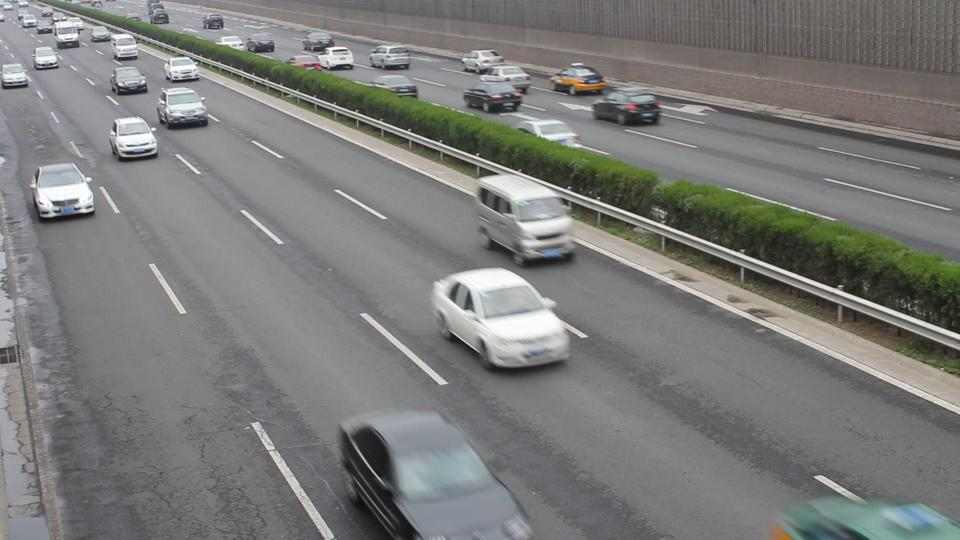Car: (340, 411, 524, 532), (432, 265, 571, 372), (32, 162, 95, 222), (589, 88, 659, 126), (506, 117, 576, 155), (109, 115, 159, 161), (157, 86, 210, 128), (462, 80, 521, 113), (547, 64, 602, 95), (364, 73, 417, 103), (479, 65, 530, 92), (368, 42, 411, 71), (461, 48, 503, 74), (317, 44, 354, 71), (283, 53, 321, 79)
Minivan: (475, 172, 573, 263)
